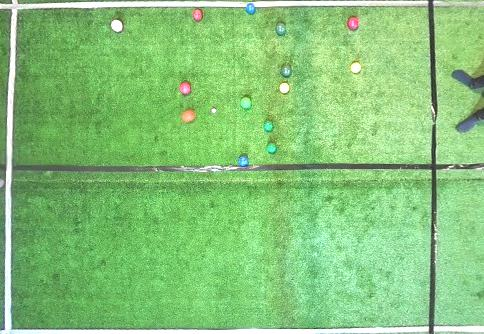blue: (238, 155, 248, 167), (246, 3, 256, 15)
green: (240, 96, 251, 110), (276, 21, 286, 36), (280, 65, 291, 77), (263, 121, 274, 132), (267, 142, 277, 154)
red: (181, 109, 195, 123), (179, 82, 192, 95), (347, 16, 359, 30), (111, 19, 123, 32), (192, 9, 203, 21)
vline: (427, 0, 483, 333), (0, 0, 21, 333)
white: (212, 108, 216, 113)
yellow: (350, 62, 361, 74), (279, 83, 289, 93)
